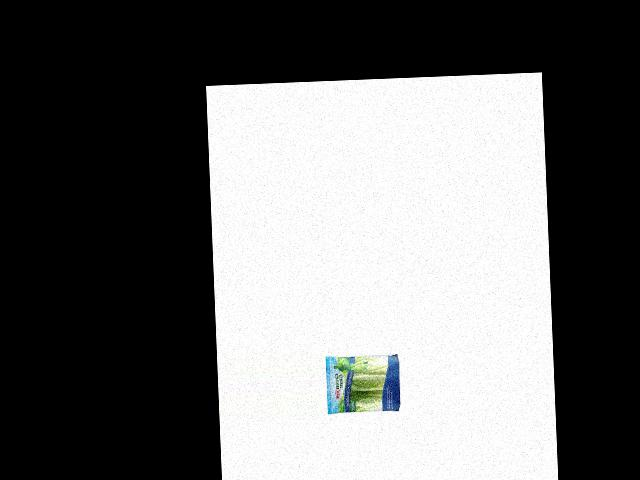lettuce: (328, 351, 404, 414)
